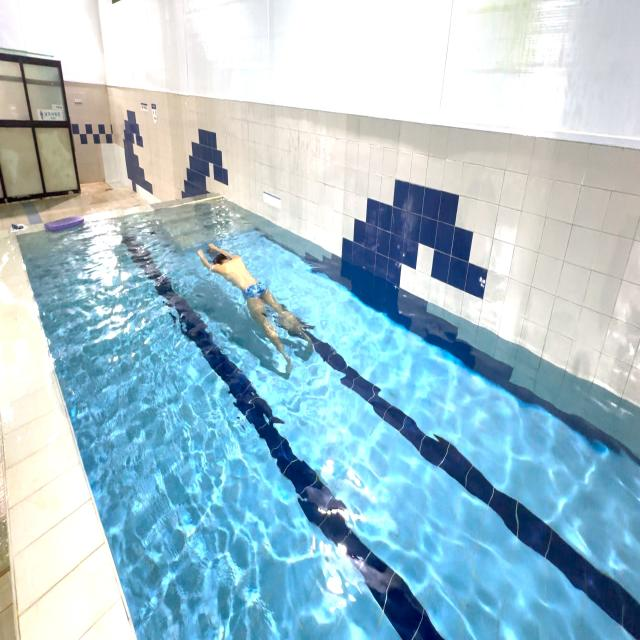Drowning: (188, 233, 316, 388)
